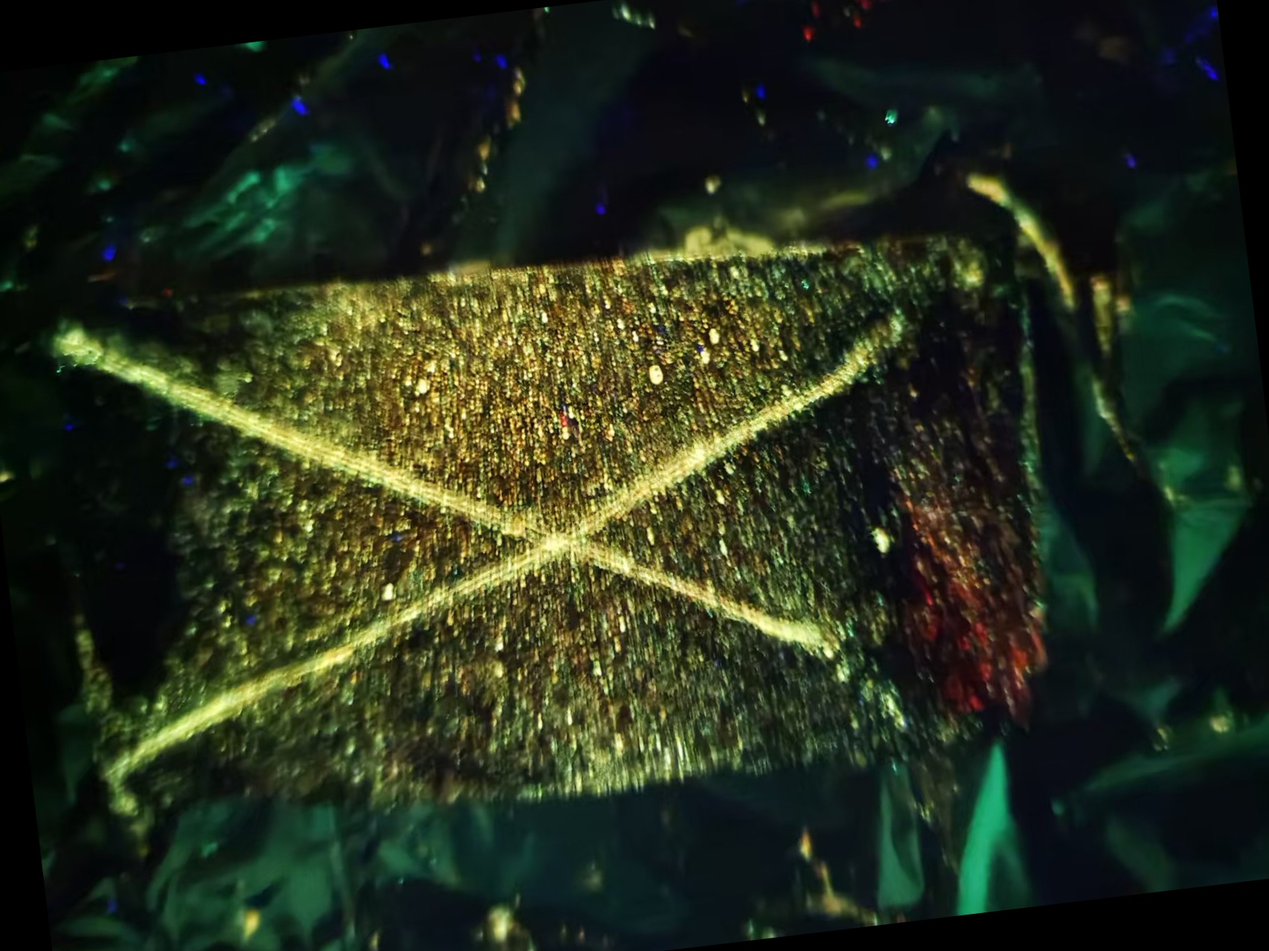Crater: (50, 303, 973, 813), (30, 219, 859, 765)
